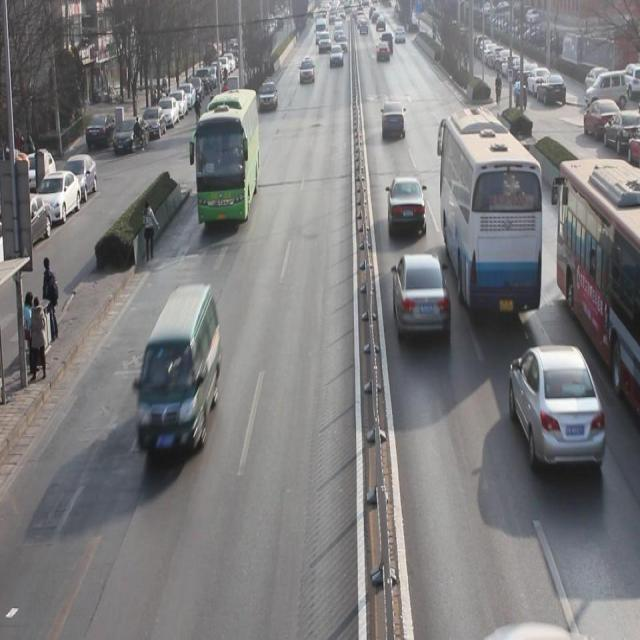car: (508, 343, 606, 475), (392, 254, 451, 346), (386, 177, 427, 238), (382, 100, 407, 141), (258, 78, 278, 113), (299, 56, 315, 87), (329, 43, 344, 68), (376, 40, 390, 64), (318, 32, 331, 52)
truck: (135, 296, 222, 462)
van: (554, 159, 640, 416), (441, 109, 540, 318), (194, 91, 258, 229)
